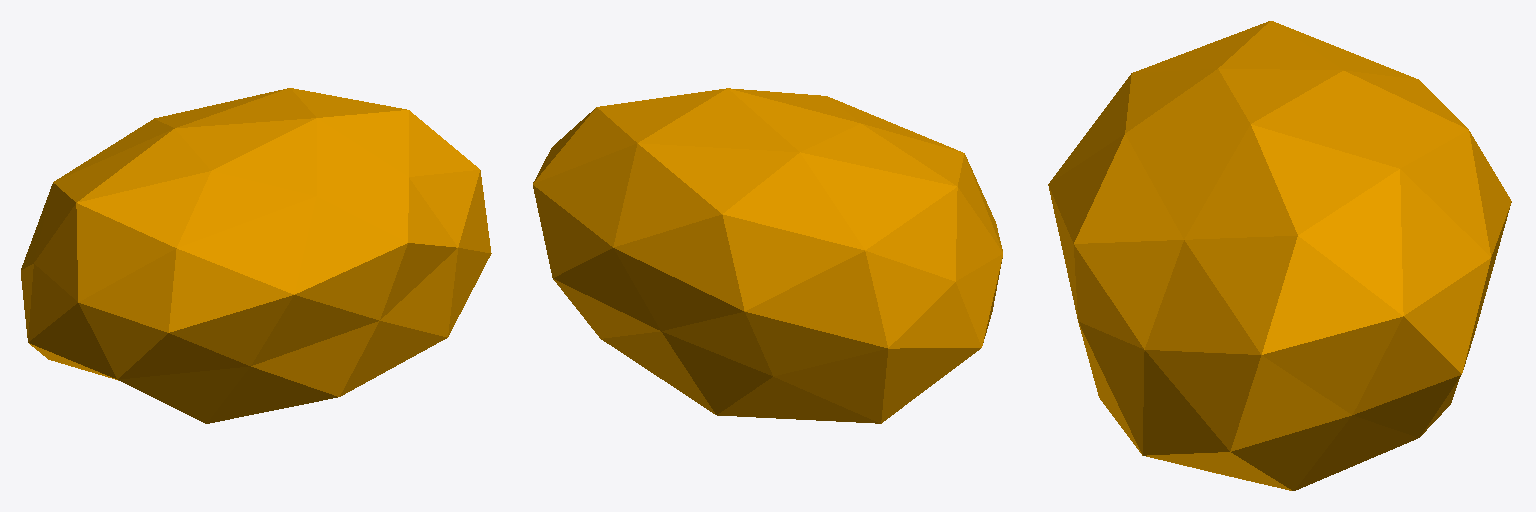
The robot description file, URDF, robot "train0723":
<?xml version="1.0"?>
<robot name="train0723">
  <link name="link">
    <contact>
      <lateral_friction value="0.6"/>
    </contact>
    <inertial>
      <mass value = "0.6131490528025956"/>
      <inertia ixx="0.0002919704497287328" ixy="-1.42975632192579e-19" ixz="-1.1353947262351864e-19" iyy="0.0004676495468740977" iyz="1.240523867553259e-19" izz="0.0005059024977934362" />
    </inertial>
    <visual name="visual">
      <geometry>
        <mesh filename="train0723.obj"/>
      </geometry>
    </visual>
    <collision name="collision">
      <geometry>
        <mesh filename="train0723.obj"/>
      </geometry>
    </collision>
  </link>
</robot>

--- What the picture shows (computed from the rendered views, not written in the file) ---
3 views of the same robot in one strip: view 1: azimuth 30°, elevation 25°; view 2: azimuth 150°, elevation 25°; view 3: azimuth 270°, elevation 25° (orthographic).
Robot: train0723 — 1 links, 0 joints (none); root link link; default pose: all joints at 0.
Links seen in each view (by area): view 1: link; view 2: link; view 3: link.
Link boxes in pixels (<box>): link: <box>21,88,491,423</box>; link: <box>533,88,1002,423</box>; link: <box>1048,21,1511,490</box>.
Size in the robot's own frame: 0.1085 by 0.0767 by 0.0643 metres.
Meshes: 1 distinct files referenced, 1 mesh visuals loaded (1 OBJ).
